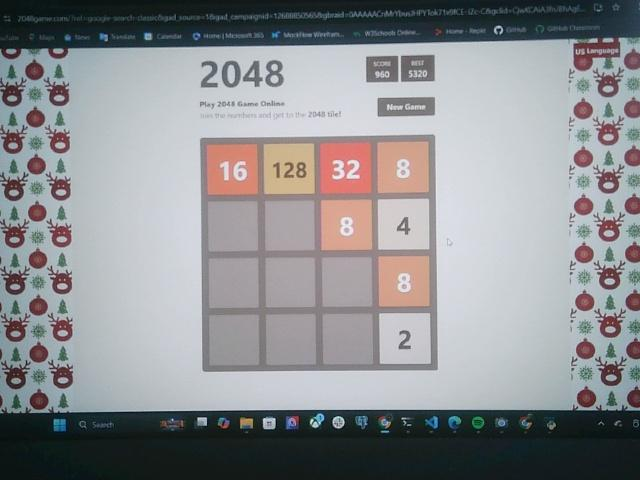board: (202, 138, 435, 371)
tile: (378, 199, 430, 250), (378, 256, 430, 307), (379, 313, 431, 364), (378, 141, 429, 192), (322, 200, 373, 251), (265, 143, 315, 194), (206, 145, 258, 194), (321, 143, 371, 193)
